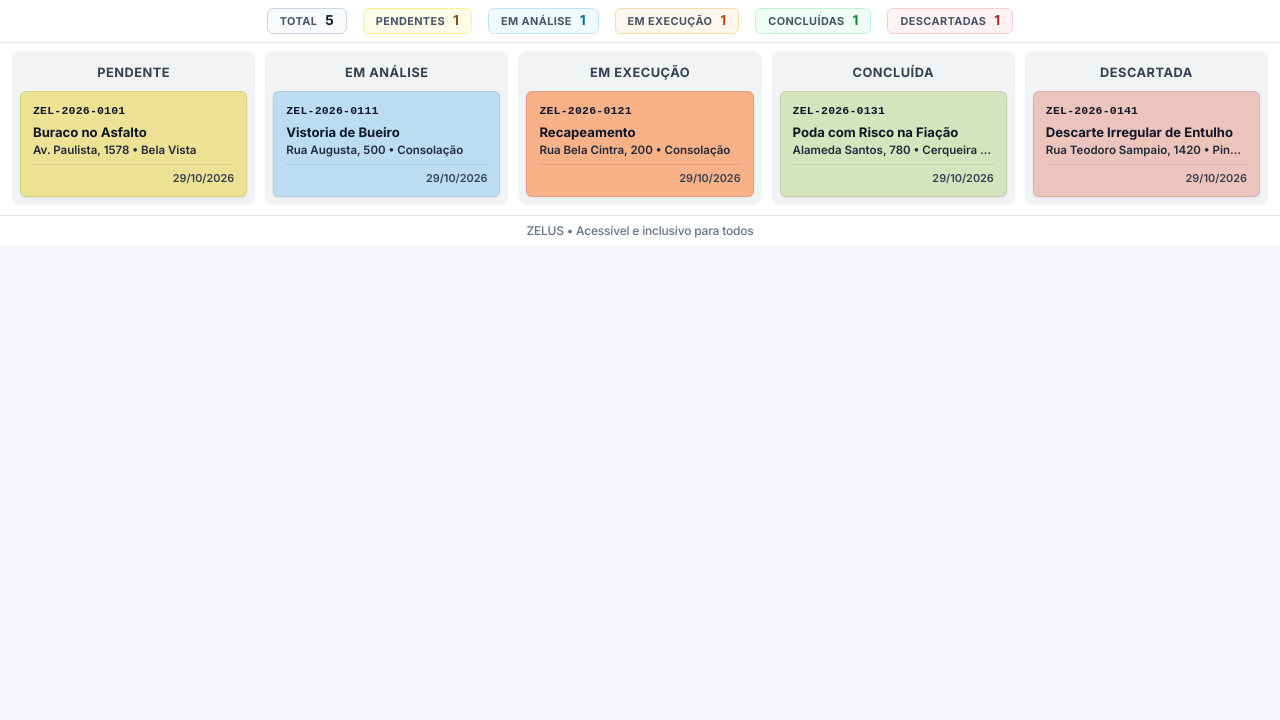
Test: Página PainelKanban - Integração Assíncrona e Regras de Negócio › deve preservar a visualização (abrir SolicitacaoModal) ao clicar em um cartão com status Concluída
Expected: the text "ZEL-2026-0131" is shown, [793,102,885,119]
// Localiza o cartão pelo protocolo ZEL-2026-0131 (Concluída)
Click the button with aria-label "Solicitação ZEL-2026-0131: Poda com Risco na Fiação em Alame" at (893, 144), box [780,90,1007,198]
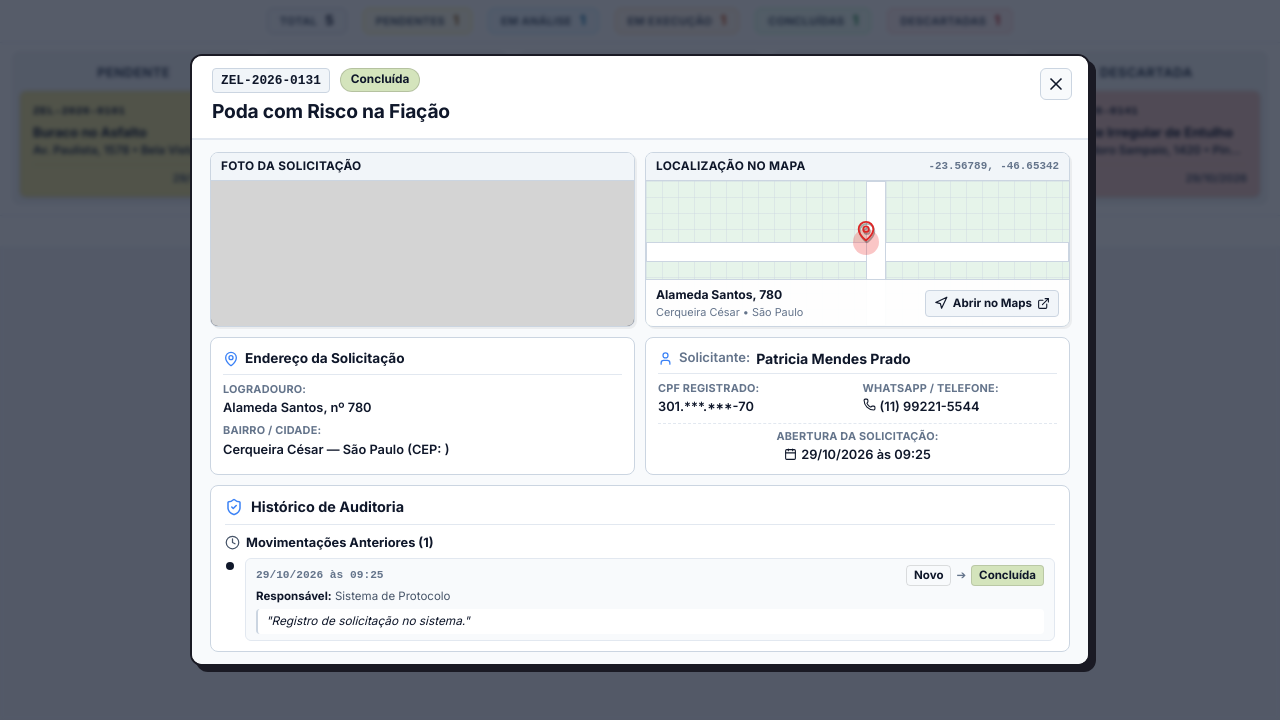
Expected: the dialog is shown, [190,54,1090,666]
Expected: the text "ZEL-2026-0131" is shown, [212,68,330,93]
Expected: the heading "Endereço da Solicitação" is shown, [245,348,404,369]
